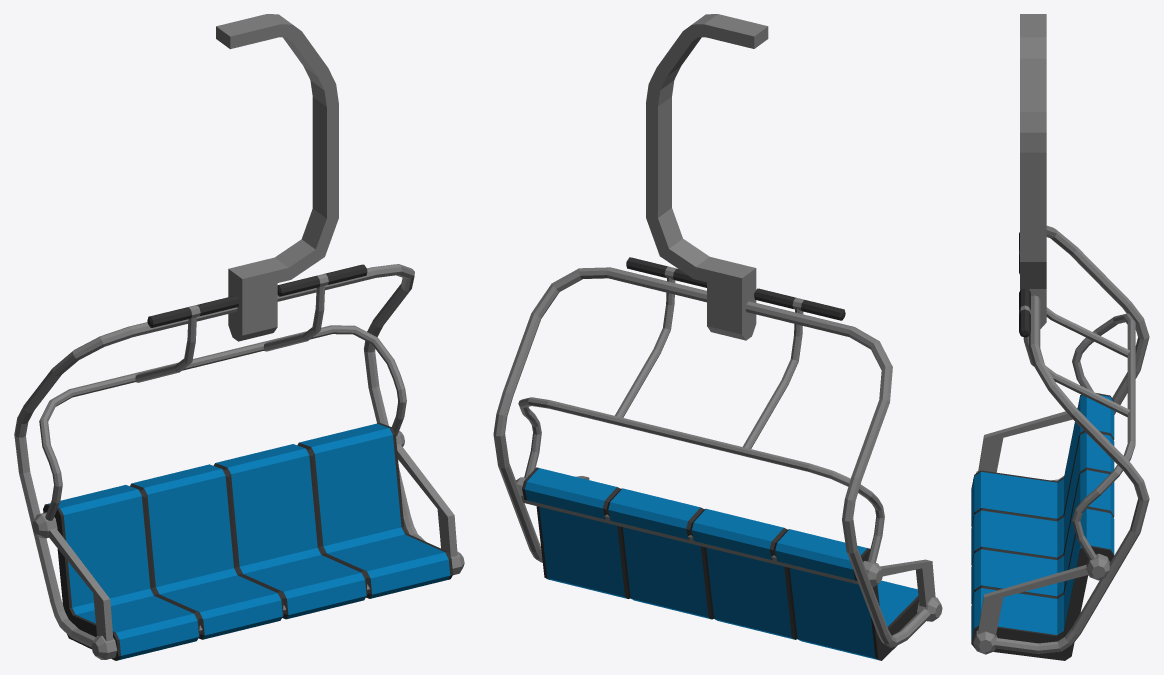
Rendered from d32b0ba3-cdfa-4bd3-8aa7-3888190e7783.glb.
3 views of the same model, side by side, from view 1: azimuth 30°, elevation 25°; view 2: azimuth 150°, elevation 25°; view 3: azimuth 270°, elevation 25° (orthographic). The views are drawn at different scales.
Visible parts, largest first — view 1: Chairlift; view 2: Chairlift; view 3: Chairlift.
Boxes of the visible parts, box(x1,y1,x2,y2) form: Chairlift: box(14, 14, 464, 660); Chairlift: box(493, 14, 942, 660); Chairlift: box(971, 14, 1149, 660).
Size of the model in its own units: 84.53 by 129 by 37.61.
1 material, 1 textured.
